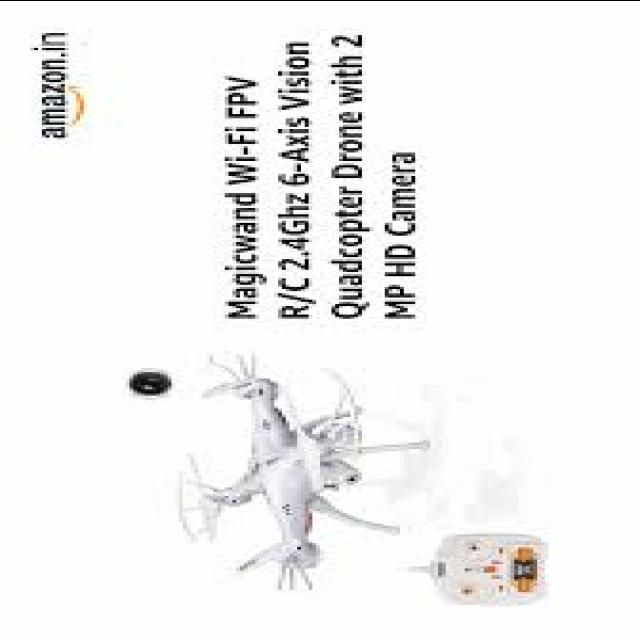drone: (148, 352, 454, 596)
